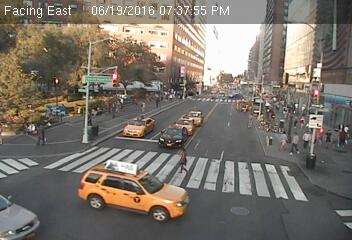neg: (45, 71, 63, 95), (207, 24, 221, 42), (4, 29, 14, 43)
pos: (172, 144, 194, 173), (319, 127, 338, 151), (287, 130, 305, 155), (32, 122, 50, 146), (275, 130, 292, 152), (300, 129, 315, 149), (337, 131, 351, 150), (298, 113, 309, 128), (85, 111, 96, 125), (342, 120, 351, 134), (290, 115, 299, 126)
